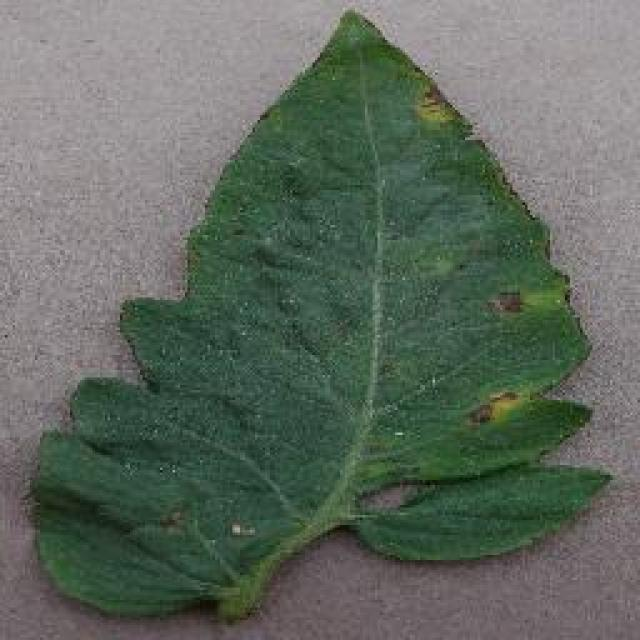Tomato bacterial spot leaf: (25, 5, 617, 622)
